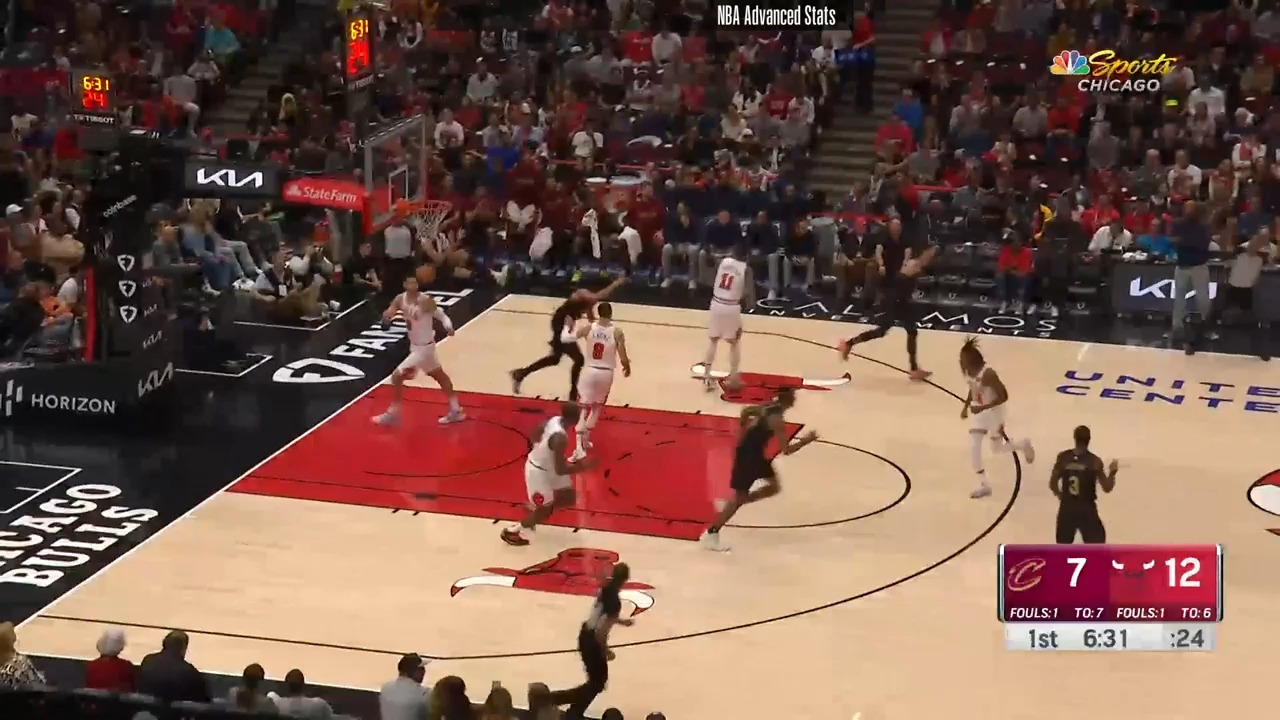net: (382, 188, 461, 247)
player: (699, 381, 819, 562), (356, 275, 471, 432), (836, 238, 942, 387), (495, 401, 599, 550), (955, 342, 1040, 504), (561, 301, 634, 476), (513, 273, 604, 400), (697, 237, 759, 404), (1051, 424, 1121, 548)
referee: (510, 541, 658, 716), (1181, 233, 1280, 357), (377, 216, 420, 322)
